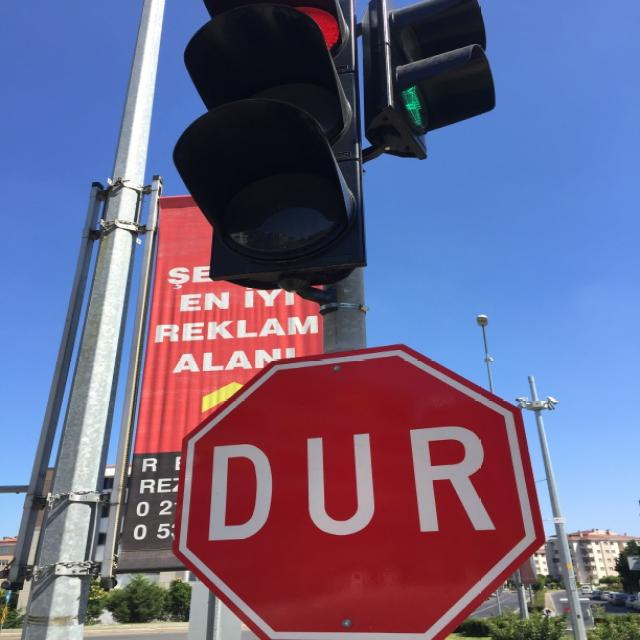dur: (171, 342, 546, 640)
